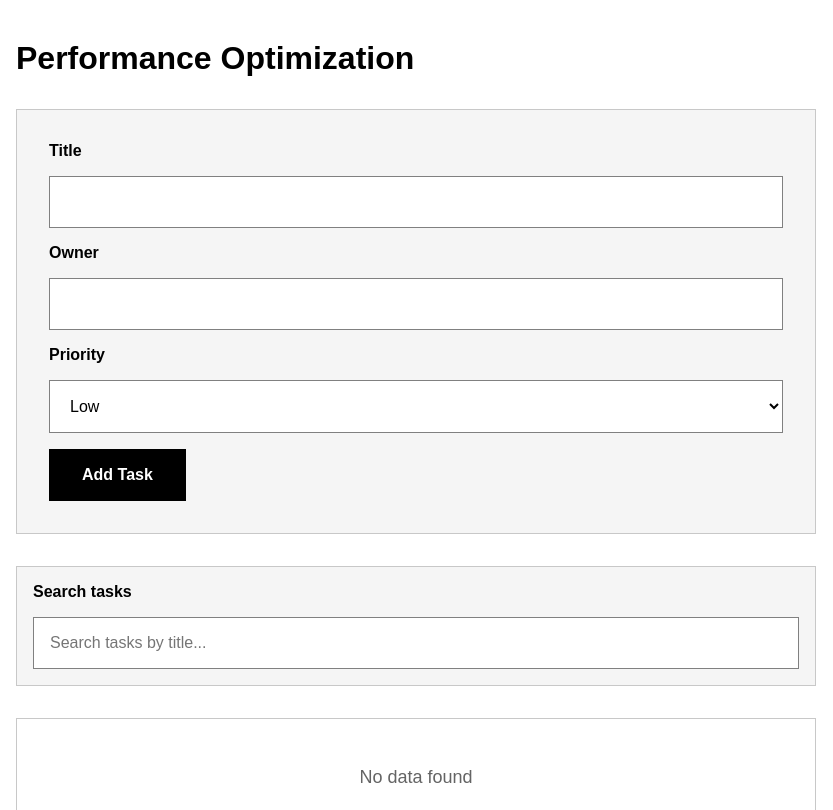
Test: TaskTracker - Unhappy Path › prevents submission, marks Title invalid with aria-invalid and red border, and shows error message when Title is empty
expect the heading "Performance Optimization" is shown: met, box [16, 40, 414, 76]
# Leave Title empty and only fill Owner
In the field labelled "Owner": (416, 304) [49, 278, 783, 330], type "John Doe"
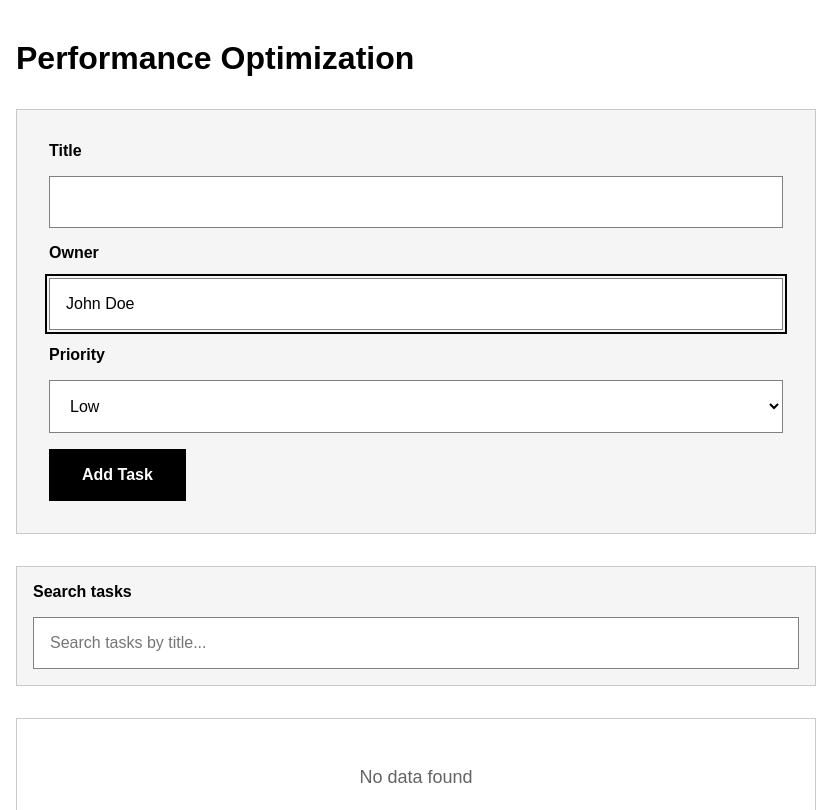
Click the button "Add Task": (117, 475) [49, 449, 186, 501]
(page scrolled)
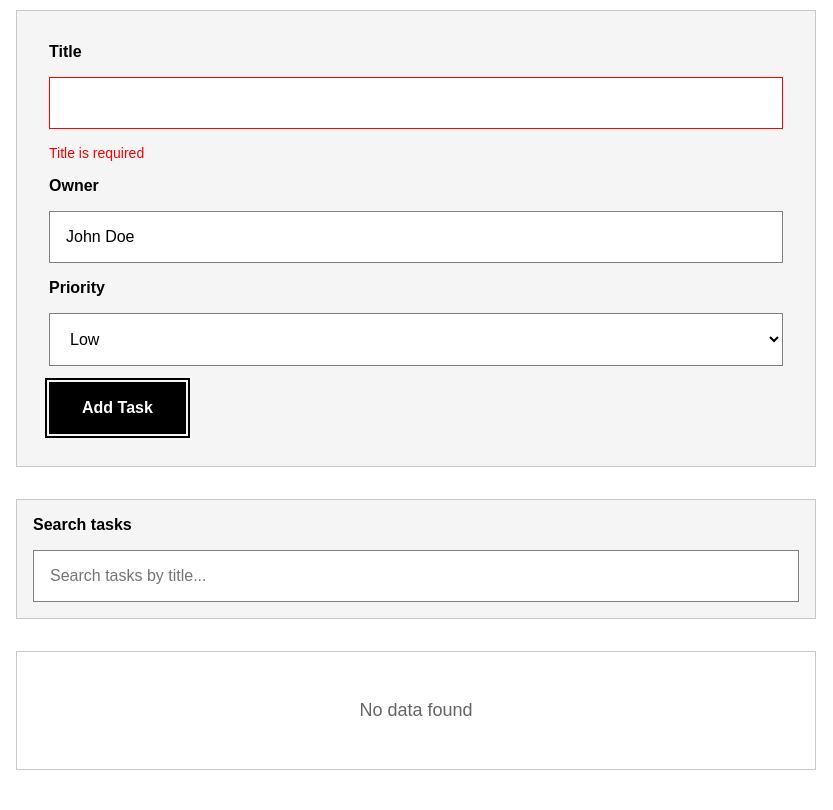
expect the text "No data found" is shown: met, box [360, 700, 473, 720]
expect the text "Title is required" is shown: met, box [49, 145, 144, 161]
